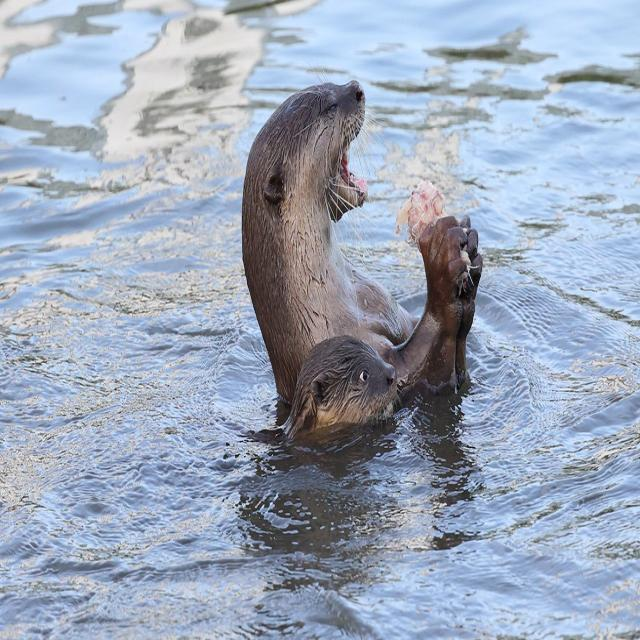otter: (242, 81, 482, 400), (284, 336, 397, 438)
